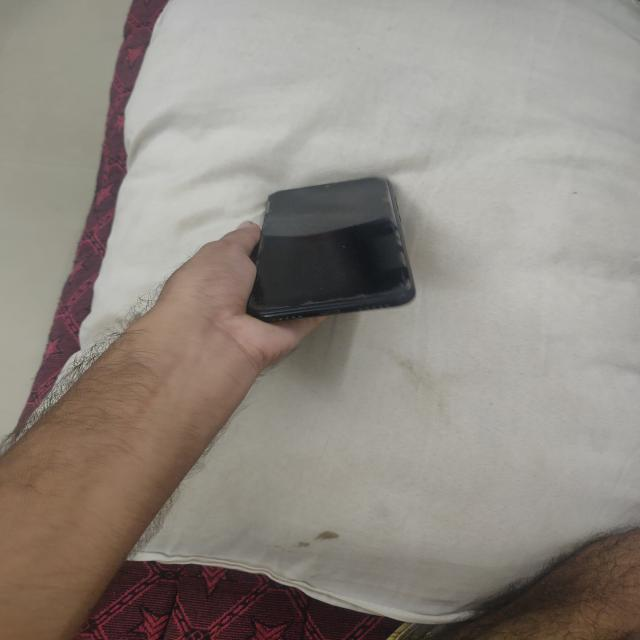Phone: (241, 173, 422, 324)
